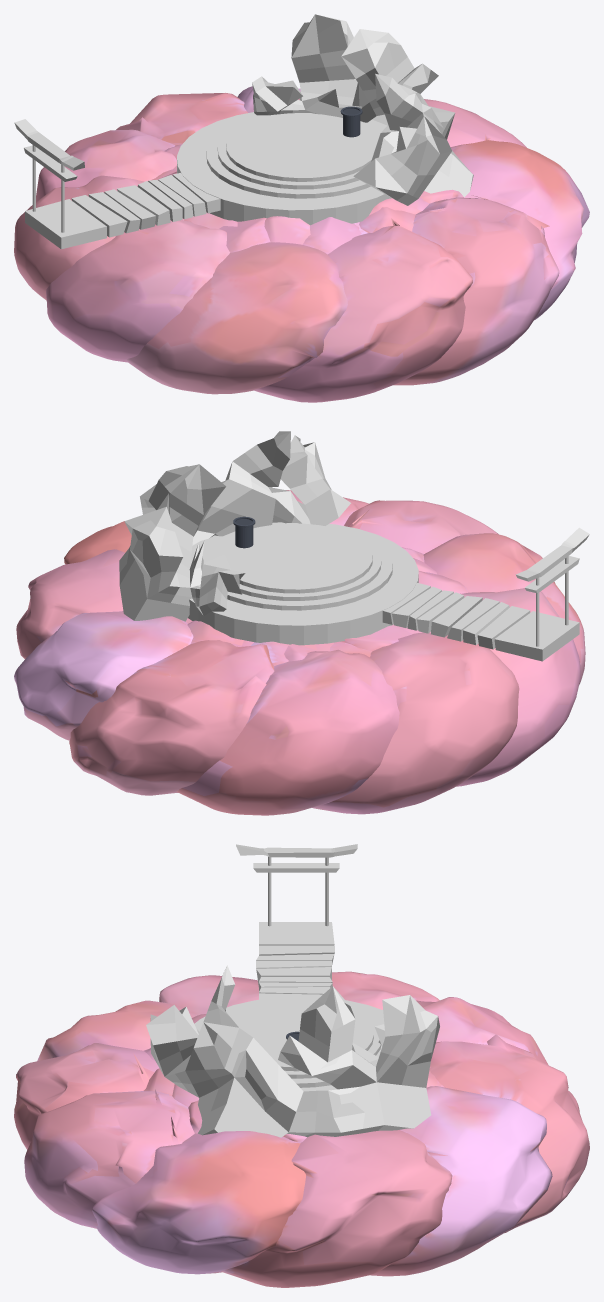
Rendered from shrine.fbx.
3 renders of one model, top to bottom at view 1: azimuth 30°, elevation 25°; view 2: azimuth 150°, elevation 25°; view 3: azimuth 270°, elevation 25°, orthographic. The views are drawn at different scales.
Parts seen in each view (by area): view 1: Icosphere.001, Cube.002, Cylinder.002, Cube.001, Cylinder.004, Cylinder.007; view 2: Icosphere.001, Cube.002, Cylinder.002, Cube.001, Cylinder.004, Cylinder.007; view 3: Icosphere.001, Cube.002, Cube.001, Cylinder.002, Cylinder.004.
Part boxes in pixels (x1,y1,x2,y2): Icosphere.001: (14,86,589,402); Cube.002: (252,14,473,205); Cylinder.002: (177,112,391,225); Cube.001: (25,173,220,249); Cylinder.004: (14,119,84,232); Cylinder.007: (340,106,362,137); Icosphere.001: (14,490,585,815); Cube.002: (119,431,350,621); Cylinder.002: (188,522,418,645); Cube.001: (382,583,579,661); Cylinder.004: (516,527,589,646); Cylinder.007: (233,516,255,548); Icosphere.001: (14,971,589,1287); Cube.002: (146,965,439,1137); Cube.001: (256,922,334,999); Cylinder.002: (194,996,384,1091); Cylinder.004: (236,844,357,926).
Bounding box in the file's own units: 9088 × 4396 × 8877.
6 materials, 2 textured.
